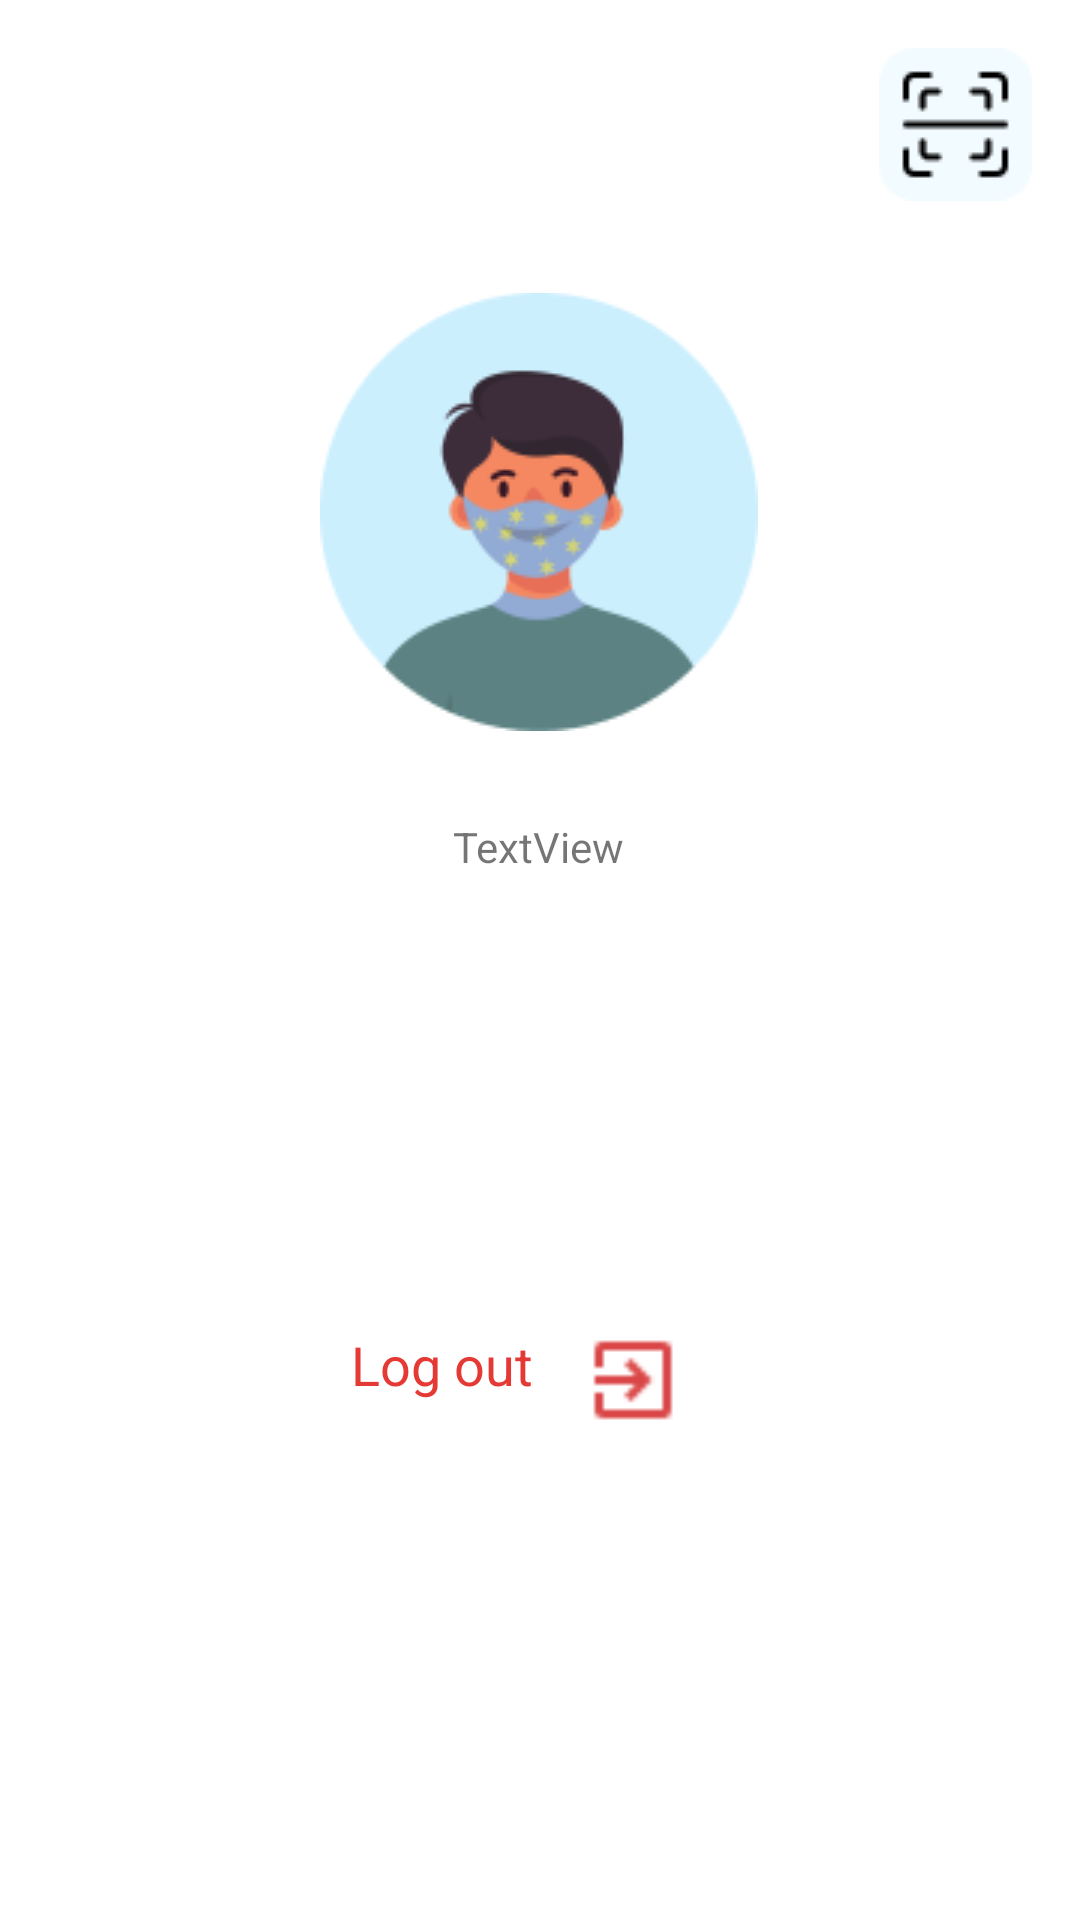

Icons on this 1080×1920 Android screen, each with its box as (left=x1, top=y1, right=x2, bottom=y2):
exit: (left=593, top=1340, right=673, bottom=1420)
scanner: (left=879, top=48, right=1032, bottom=201)
